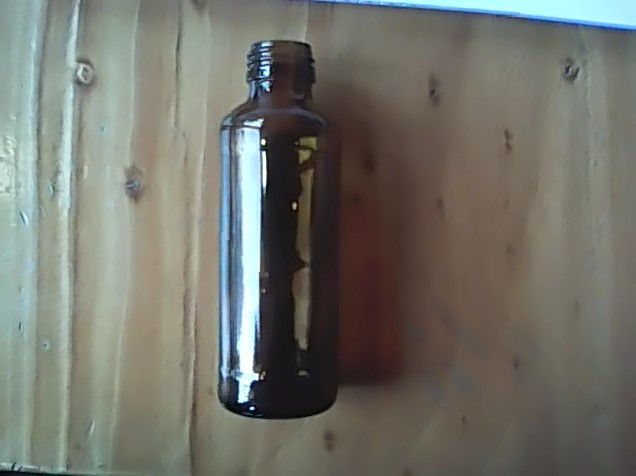Glass: (216, 38, 343, 424)
